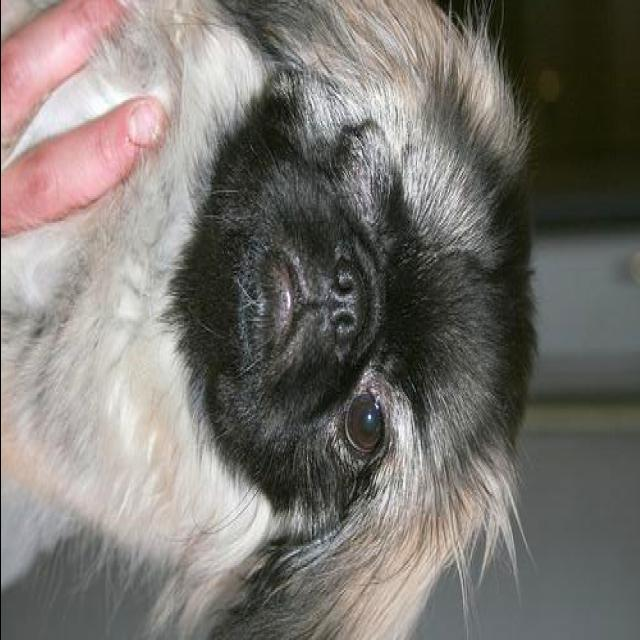pekinese: (2, 4, 546, 640)
